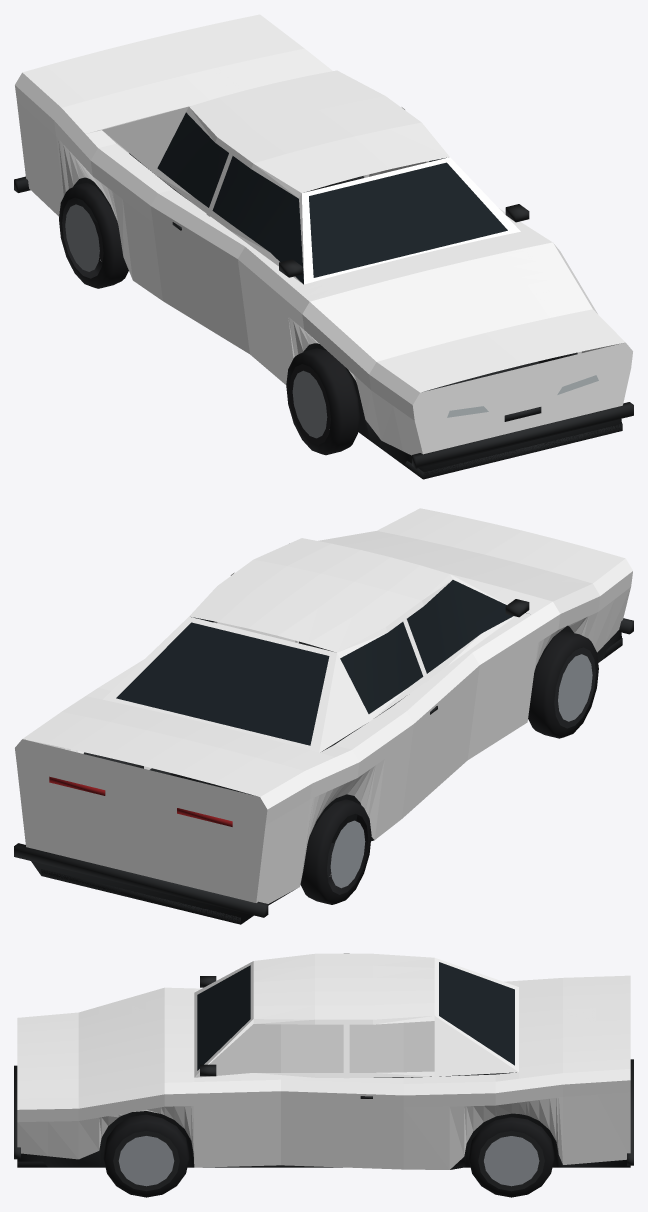
The model's file is whitlock_cometa.glb.
3 renders of one model, top to bottom at view 1: azimuth 30°, elevation 25°; view 2: azimuth 150°, elevation 25°; view 3: azimuth 270°, elevation 25°, orthographic. The views are drawn at different scales.
Visible parts, largest first — view 1: Body_Paint, Body_Details, Mount_FrontLeft_Wheel_Details, Mount_RearLeft_Wheel_Details; view 2: Body_Paint, Body_Details, Mount_FrontLeft_Wheel_Details, Mount_RearLeft_Wheel_Details; view 3: Body_Paint, Body_Details, Mount_FrontRight_Wheel_Details, Mount_RearRight_Wheel_Details.
Boxes of the visible parts, bbox=[...] form: Body_Paint: bbox=[15, 14, 632, 455]; Body_Details: bbox=[14, 112, 633, 479]; Mount_FrontLeft_Wheel_Details: bbox=[286, 348, 359, 455]; Mount_RearLeft_Wheel_Details: bbox=[59, 182, 128, 288]; Body_Paint: bbox=[15, 508, 632, 903]; Body_Details: bbox=[14, 580, 633, 924]; Mount_FrontLeft_Wheel_Details: bbox=[528, 631, 598, 738]; Mount_RearLeft_Wheel_Details: bbox=[300, 799, 371, 904]; Body_Paint: bbox=[17, 953, 630, 1169]; Body_Details: bbox=[14, 962, 633, 1169]; Mount_FrontRight_Wheel_Details: bbox=[103, 1114, 189, 1197]; Mount_RearRight_Wheel_Details: bbox=[468, 1117, 554, 1197].
Bounding box in the file's own units: 1.98 × 1.43 × 4.93.
2 materials, 1 textured.
